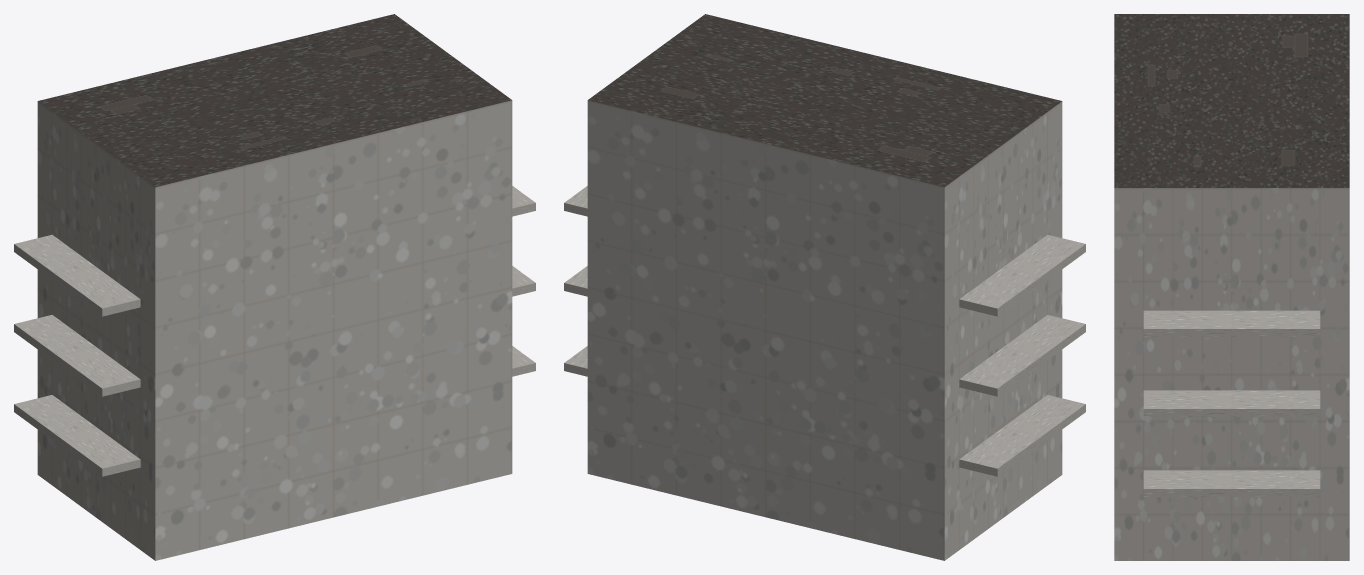
The model's file is building_apartment.obj.
The picture shows the model from 3 angles, left to right: view 1: azimuth 30°, elevation 25°; view 2: azimuth 150°, elevation 25°; view 3: azimuth 270°, elevation 25°; orthographic projection.
Size of the model in its own units: 17 by 14 by 8.
2 materials, 2 textured.
